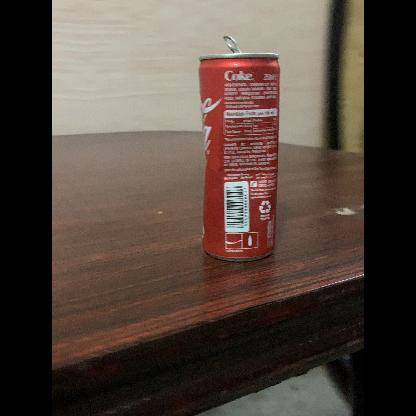Dent_Can: (229, 159, 277, 185), (212, 159, 239, 179), (205, 150, 221, 171)
Lid_Open: (220, 33, 254, 61)
Tin_Can: (188, 34, 286, 268)
